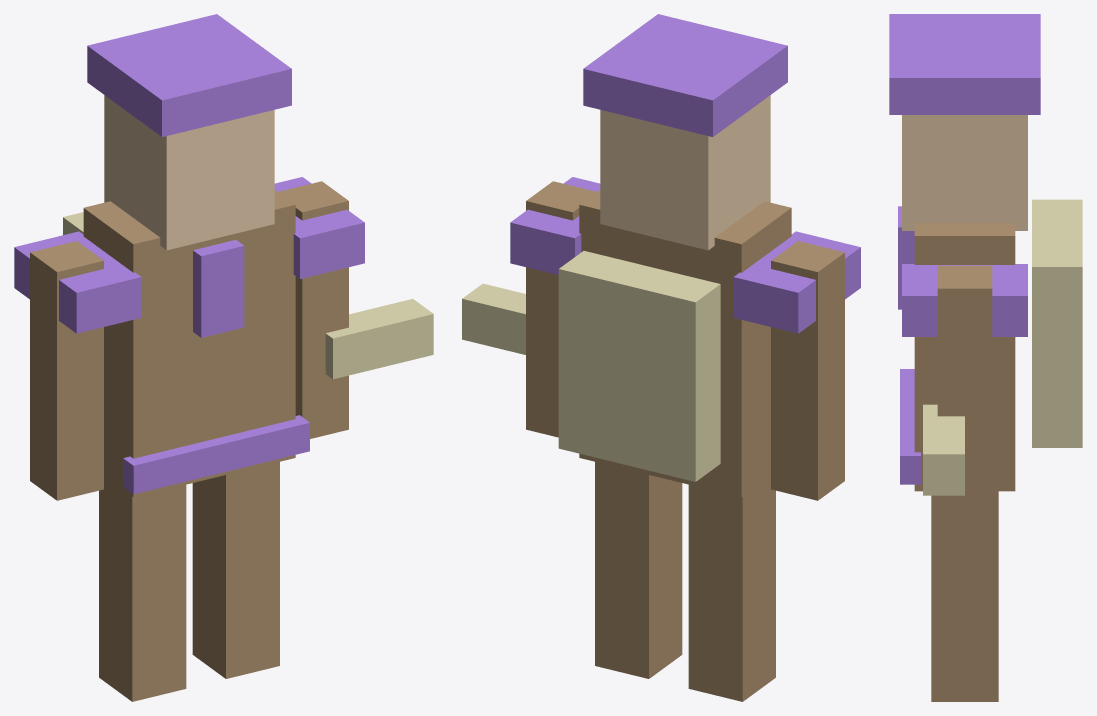
File: 09_yara_frostrelay_pilgrim_of_reactor.glb
3 views of the same model, side by side, from view 1: azimuth 30°, elevation 25°; view 2: azimuth 150°, elevation 25°; view 3: azimuth 270°, elevation 25° (orthographic).
Parts seen in each view (by area): view 1: Yara Frostrelay, Pilgrim of Reactor; view 2: Yara Frostrelay, Pilgrim of Reactor; view 3: Yara Frostrelay, Pilgrim of Reactor.
Boxes of the visible parts, bbox=[...] form: Yara Frostrelay, Pilgrim of Reactor: bbox=[14, 14, 433, 701]; Yara Frostrelay, Pilgrim of Reactor: bbox=[462, 14, 860, 701]; Yara Frostrelay, Pilgrim of Reactor: bbox=[889, 14, 1082, 701].
Bounding box in the file's own units: 1.03 × 1.63 × 0.461.
